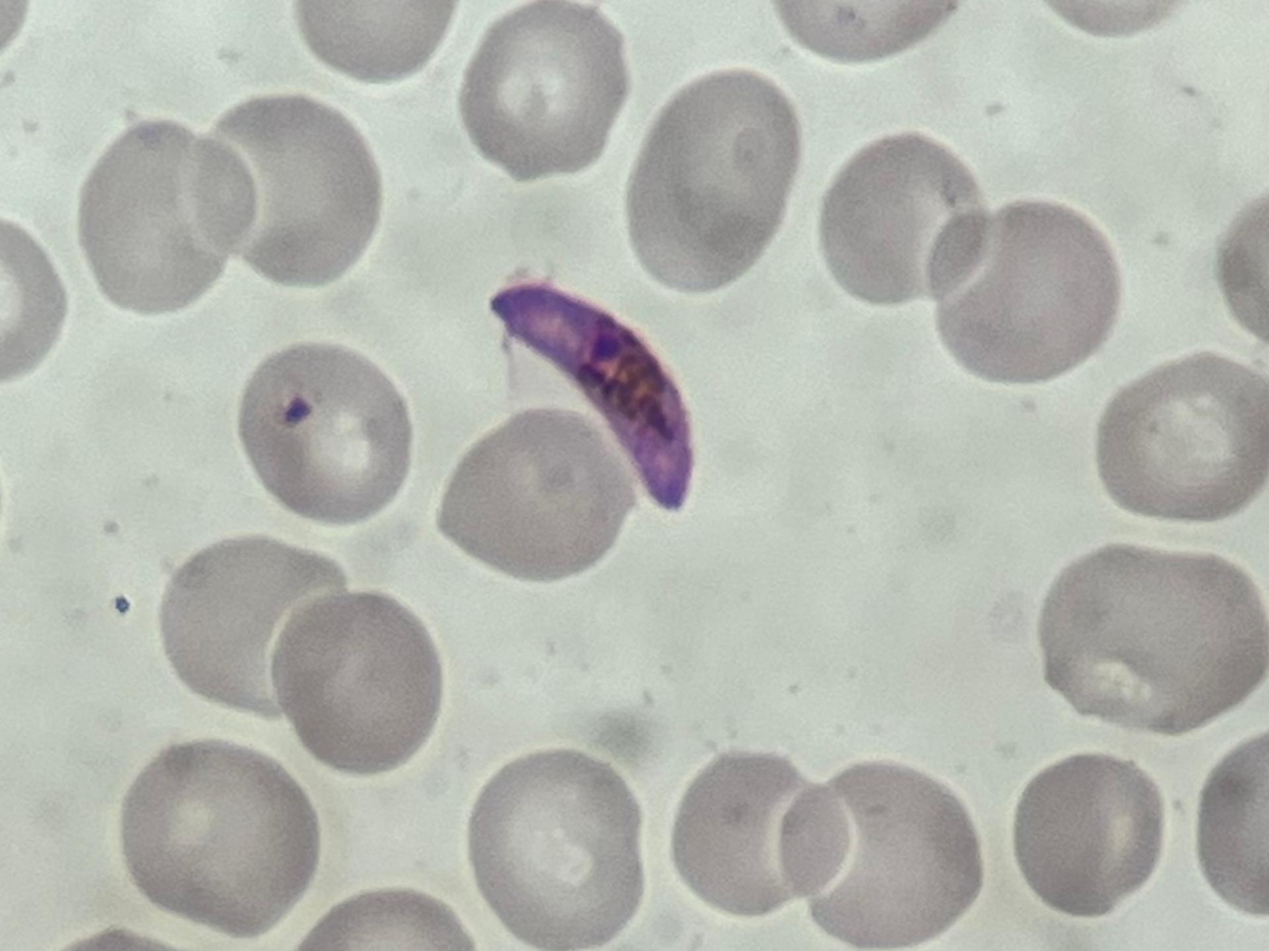Infected: (485, 283, 698, 518)
Uninfected: (1039, 541, 1269, 739), (775, 760, 983, 951), (119, 737, 316, 938), (628, 66, 801, 294), (182, 96, 382, 290), (930, 197, 1118, 389), (78, 119, 254, 319), (471, 749, 641, 951), (441, 405, 634, 582), (160, 539, 346, 718), (271, 589, 442, 779), (238, 342, 412, 525), (674, 747, 855, 917), (820, 131, 989, 308), (463, 0, 631, 177), (1099, 352, 1269, 524), (1015, 750, 1162, 916), (296, 0, 456, 81)
